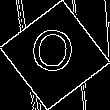O_S: (30, 27, 80, 83)
